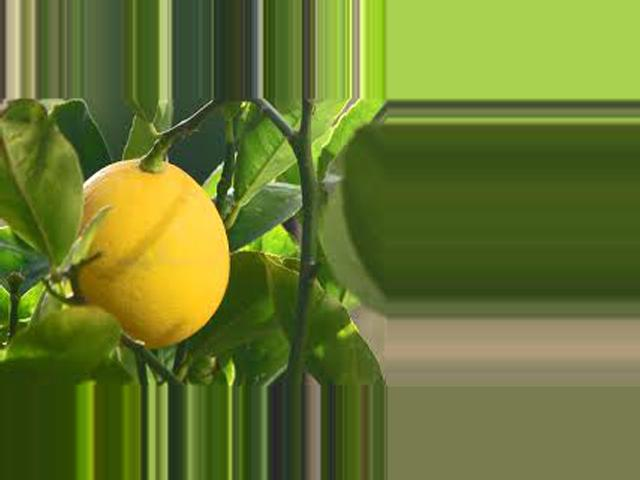lemon: (67, 145, 232, 350)
